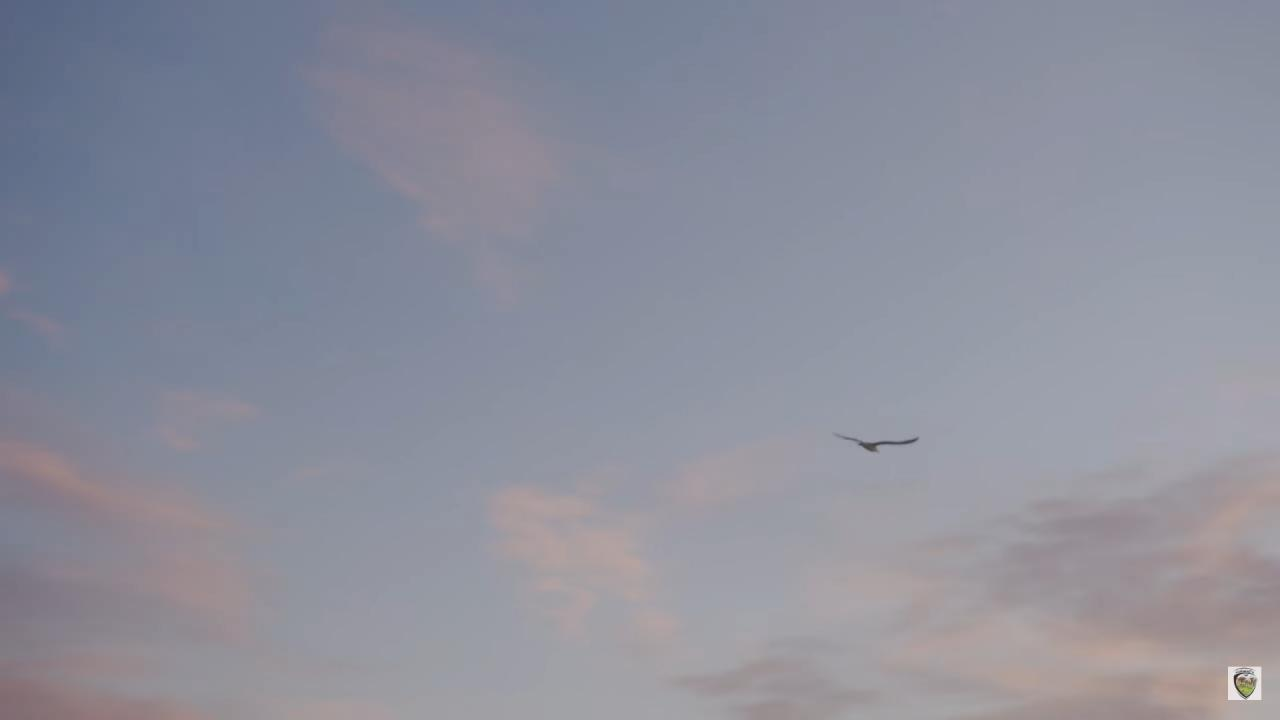Bird: (822, 422, 927, 462)
